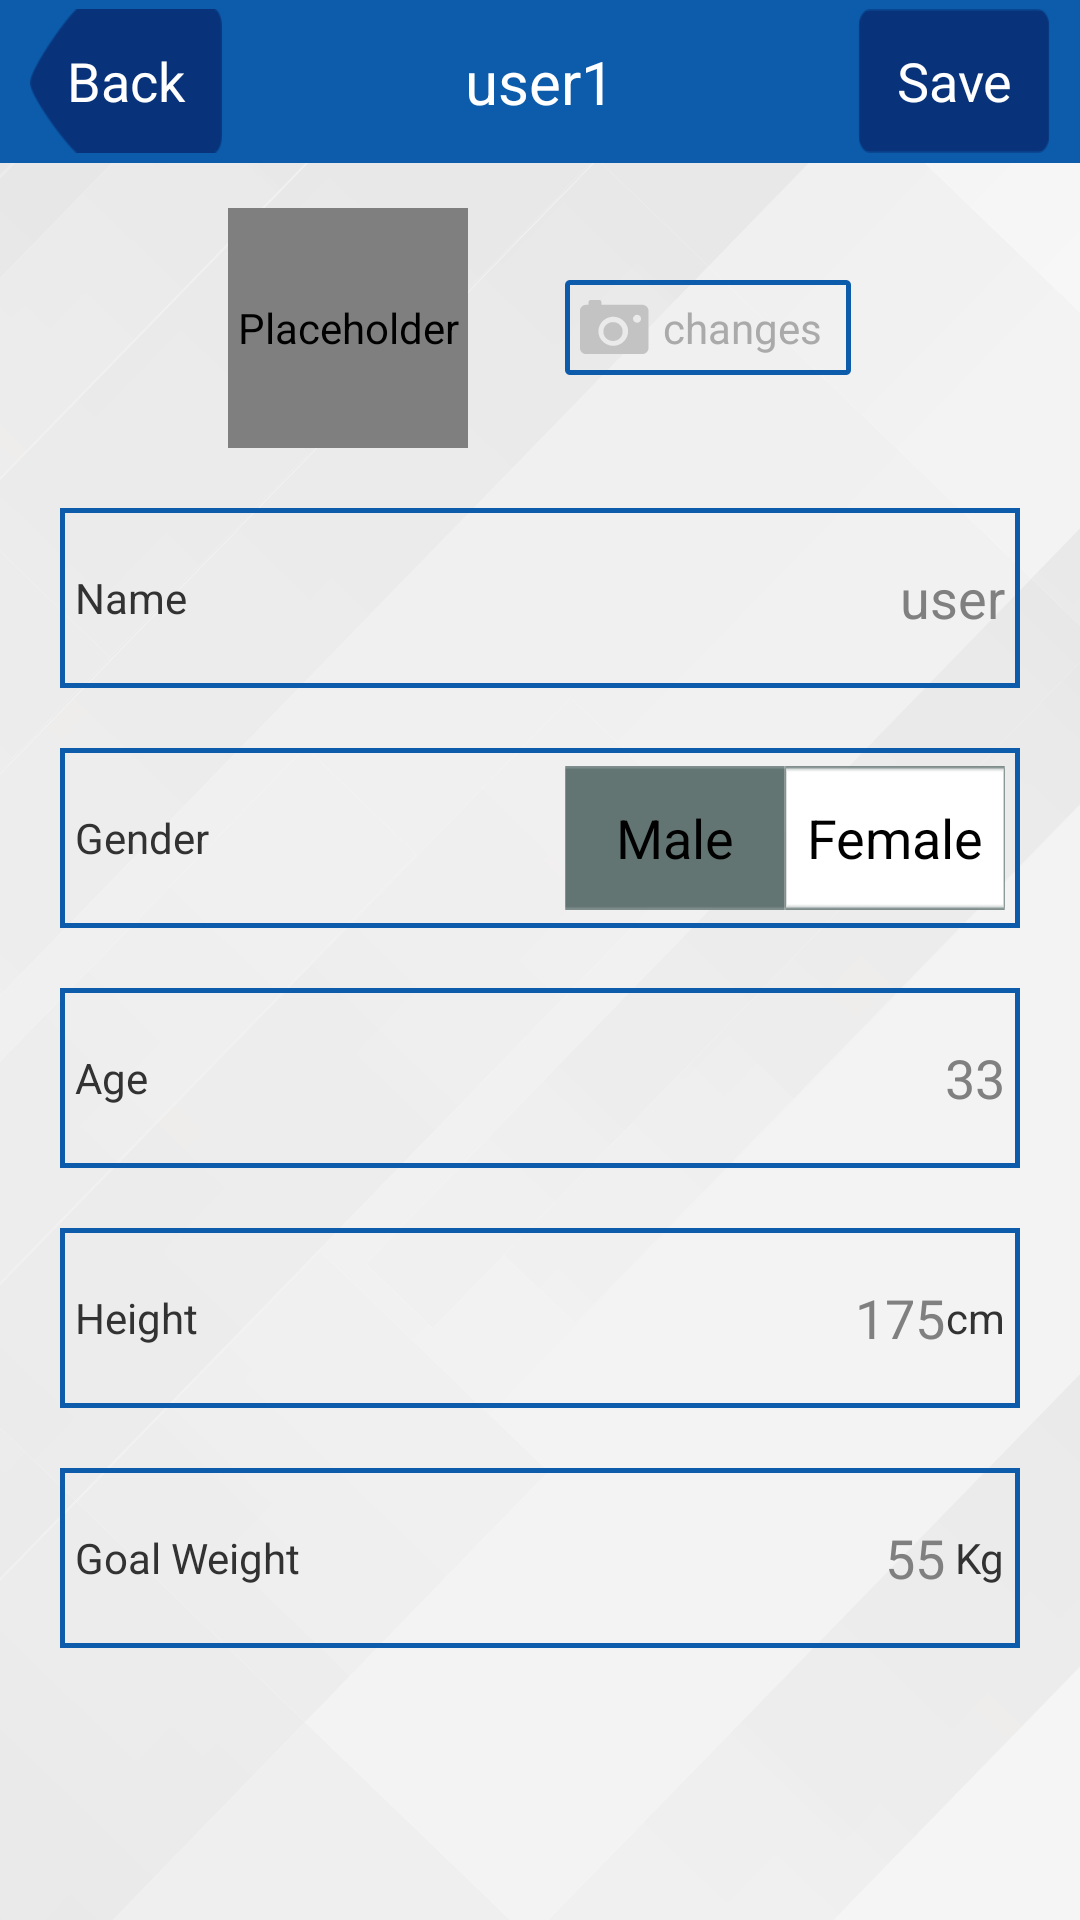

Where to tap for icons on this 1080x1920 app screen, as (x,y):
carmer: (614,327)
